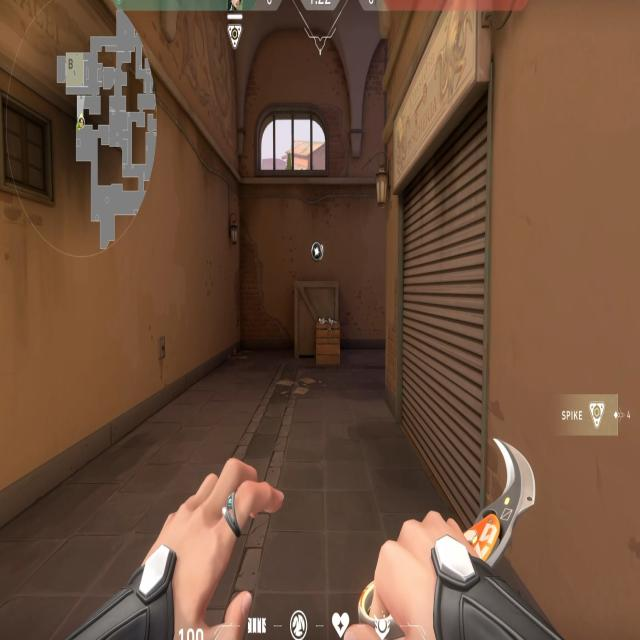B_Main_Wallbang: (288, 230, 347, 366)
Throwables: (250, 98, 340, 191)
